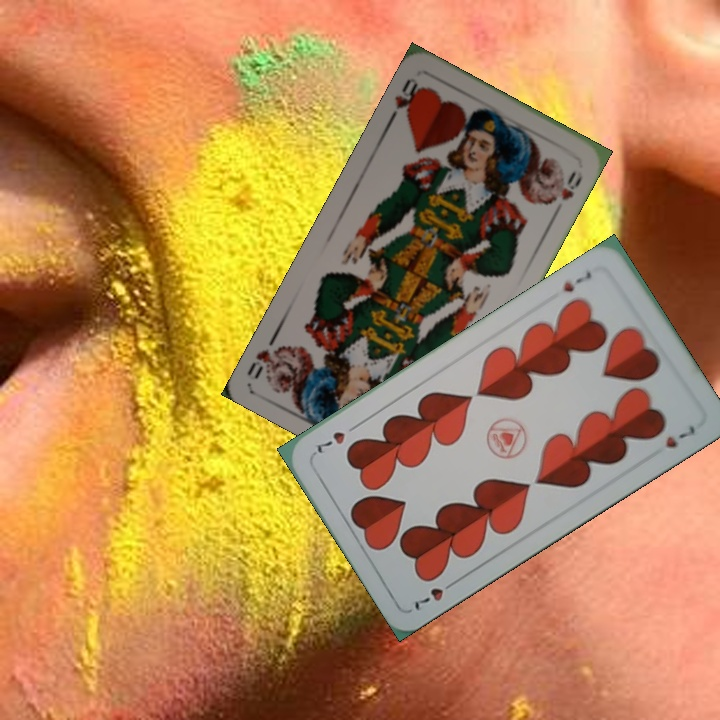H7: (410, 575, 461, 614), (559, 267, 595, 295)
HO: (384, 75, 426, 127)
